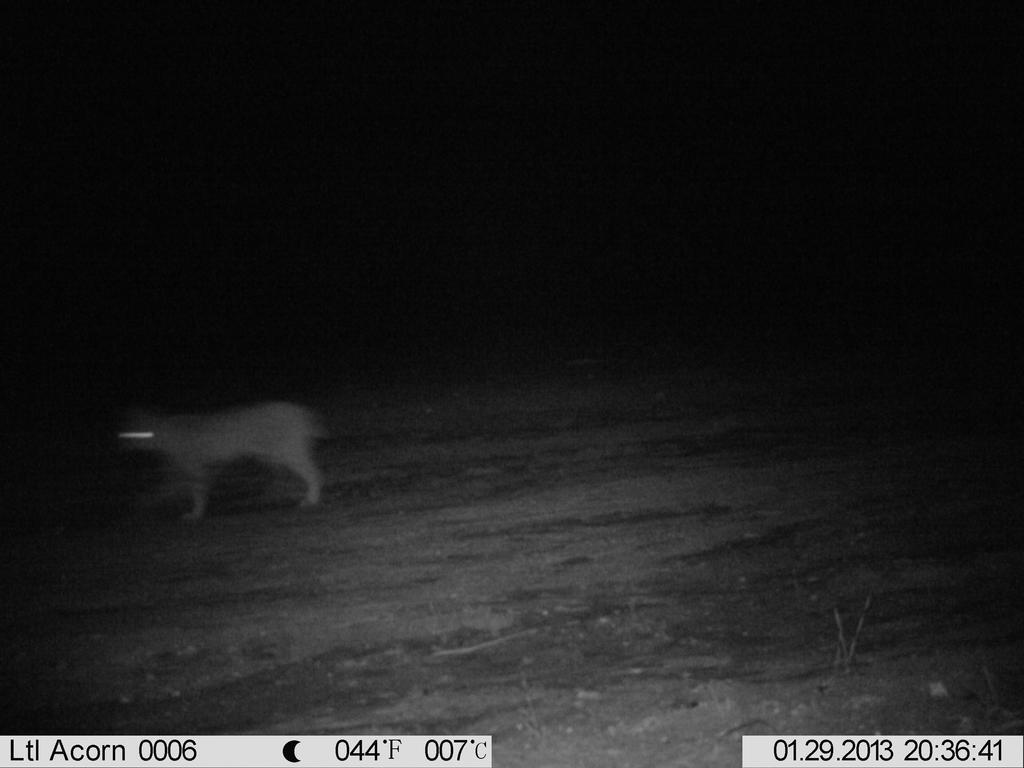bobcat: (104, 397, 336, 523)
